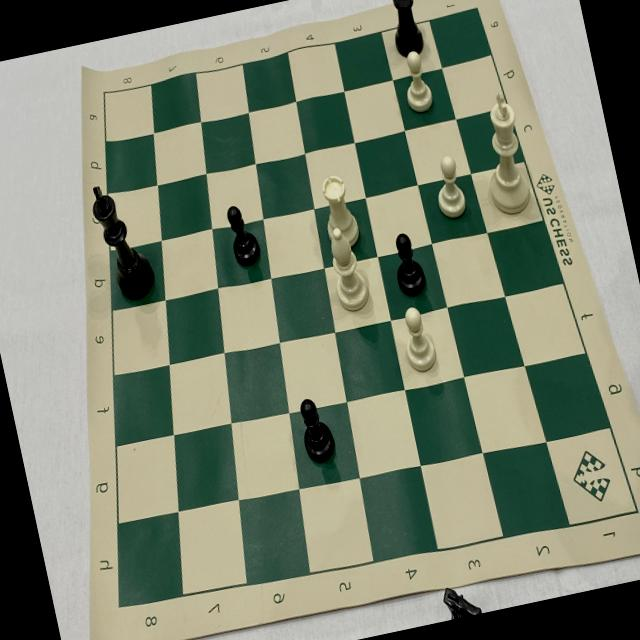black-king: (83, 172, 161, 306)
black-pawn: (292, 389, 340, 469), (384, 226, 432, 300), (221, 197, 264, 270)
black-rook: (380, 0, 432, 61)
white-bishop: (318, 222, 376, 318)
white-king: (464, 84, 542, 224)
white-pawn: (394, 300, 444, 377), (424, 148, 472, 225), (394, 44, 440, 120)
white-rook: (314, 169, 362, 254)
